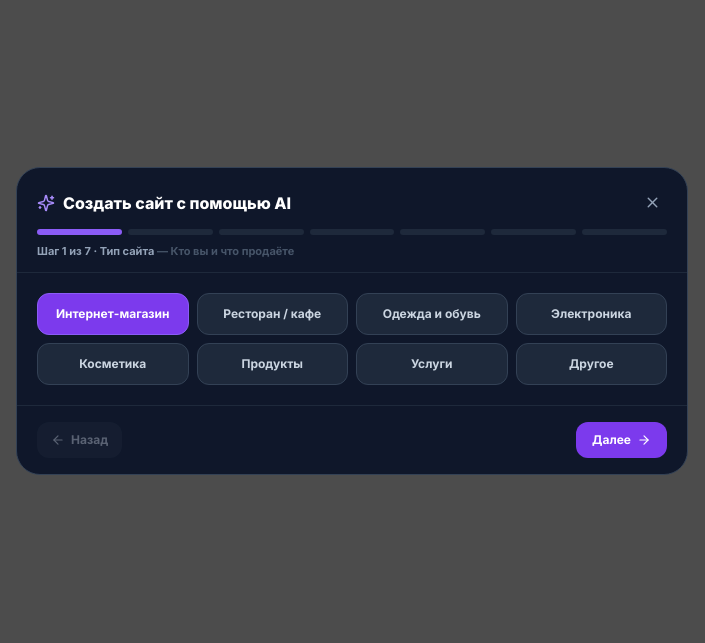
it: SiteWizard: шаги и валидация › пустая «Информация» блокирует переход с ошибками
The width and height of the screenshot is (705, 643).
Click the button "Далее".
click(622, 440)  # box x1=576 y1=422 x2=667 y2=458
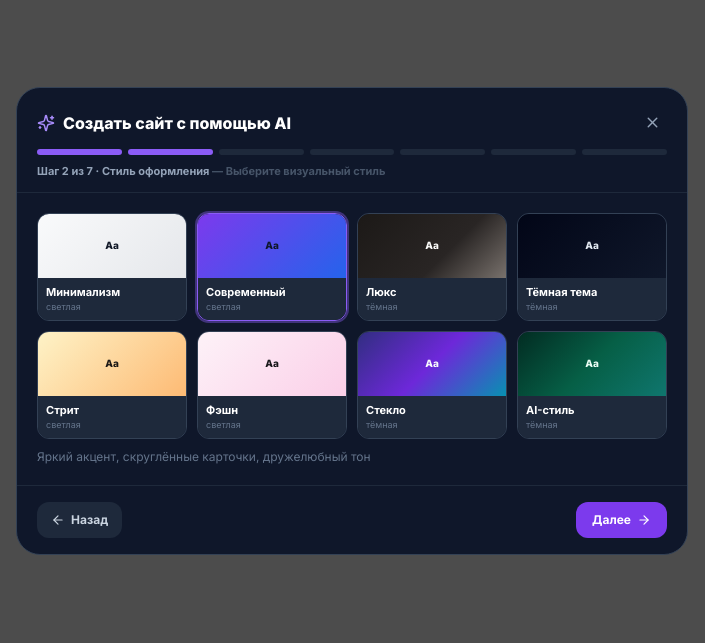
Click the button "Далее".
click(622, 520)  # box x1=576 y1=502 x2=667 y2=538
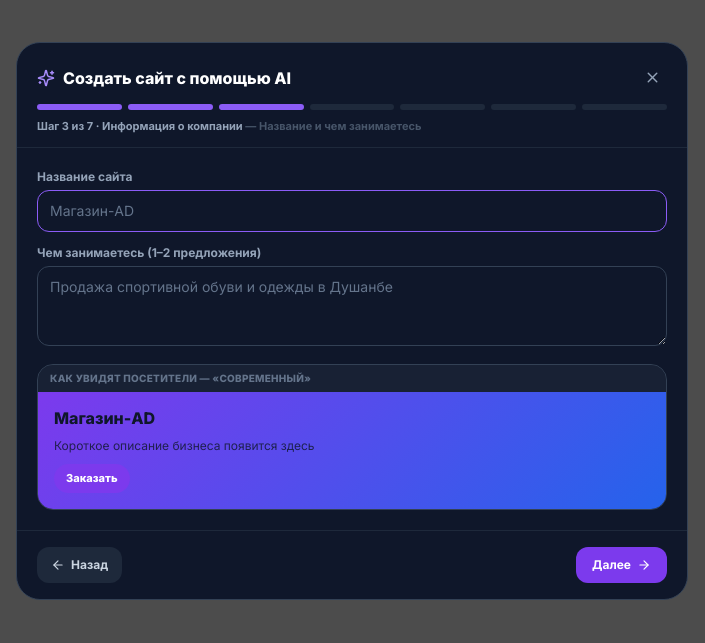
Now the text "Шаг 3 из 7" is shown, box x1=37 y1=119 x2=422 y2=133
Click the button "Далее".
click(622, 565)  # box x1=576 y1=547 x2=667 y2=583
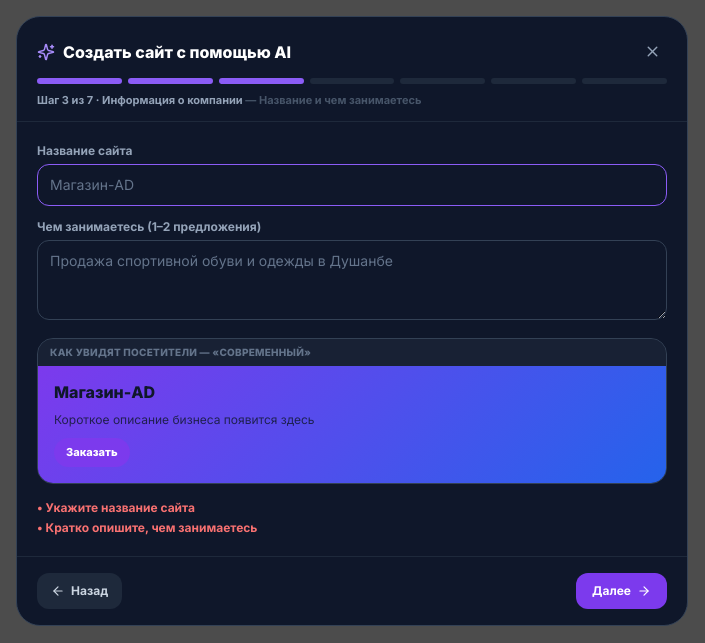
Now the text "Шаг 3 из 7" is shown, box x1=37 y1=93 x2=422 y2=107
Now the list item "• Укажите название сайта" is shown, box x1=37 y1=500 x2=195 y2=515
Now the list item "• Кратко опишите, чем занимаетесь" is shown, box x1=37 y1=520 x2=257 y2=535
